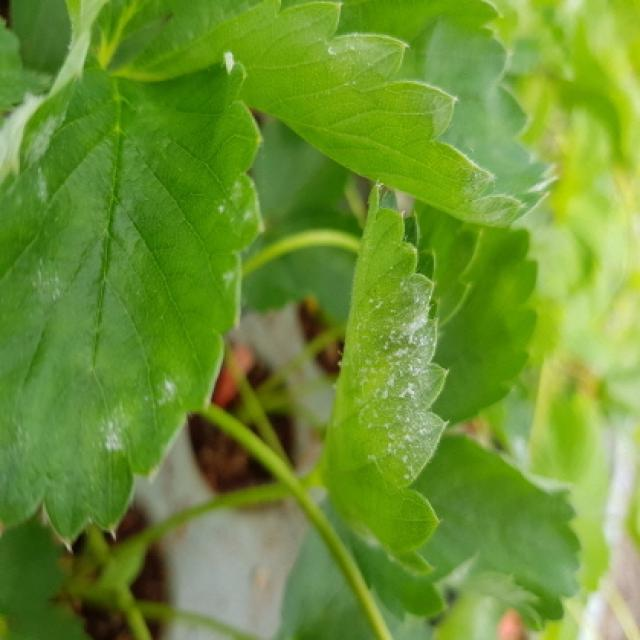powdery_mildew_leaf: (0, 28, 264, 553), (314, 179, 451, 576)
